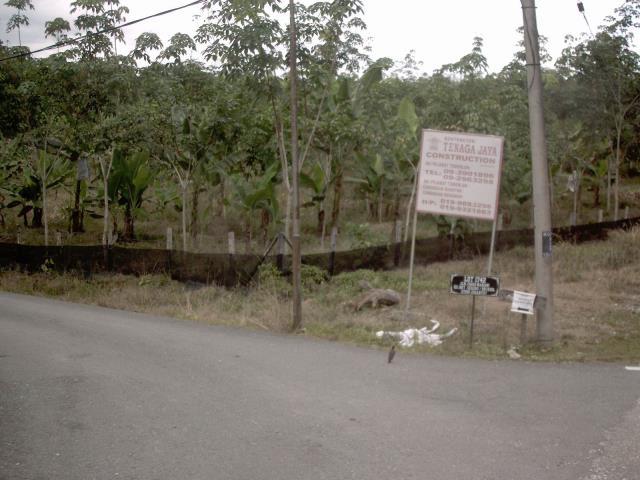ads_sign: (405, 120, 511, 231)
